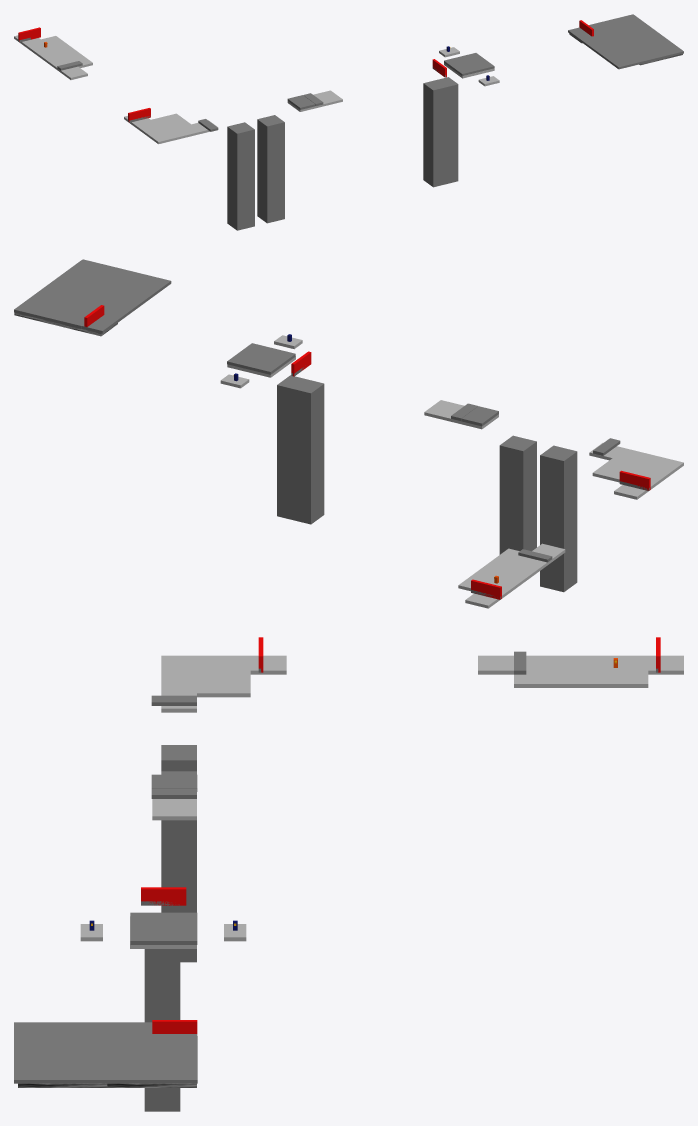
The model's file is B_Tuto.fbx.
3 renders of one model, top to bottom at view 1: azimuth 30°, elevation 25°; view 2: azimuth 150°, elevation 25°; view 3: azimuth 270°, elevation 25°, orthographic. The views are drawn at different scales.
Parts seen in each view (by area): view 1: Pilar1, Pilar1__1_, Pilar1__2_, Interaction, RoomTriggerMov_N1, pCube9, Interaction_1, pCube11, pCube10, pCube5; view 2: Pilar1, RoomTriggerMov_N1, Pilar1__2_, Pilar1__1_, Interaction, pCube9, Interaction_1, pCube10, pCube11, pCube5; view 3: Interaction, RoomTriggerMov_N1, pCube9, Pilar1, Pilar1__1_, Interaction_1, pCube11, pCube10, pCube5, Pilar1__2_, Door__2__1, pCube8__2_ (+1 smaller).
Part boxes in pixels (box(x1,y1,x2,y2)): Pilar1: box(423, 77, 458, 187); Pilar1__1_: box(257, 115, 284, 223); Pilar1__2_: box(227, 122, 254, 230); Interaction: box(590, 14, 682, 62); RoomTriggerMov_N1: box(568, 15, 683, 69); pCube9: box(133, 113, 201, 144); Interaction_1: box(444, 53, 494, 75); pCube11: box(24, 36, 73, 58); pCube10: box(42, 49, 92, 72); pCube5: box(287, 90, 342, 111); Pilar1: box(277, 375, 324, 524); RoomTriggerMov_N1: box(14, 259, 171, 333); Pilar1__2_: box(540, 445, 577, 592); Pilar1__1_: box(499, 435, 536, 554); Interaction: box(14, 260, 146, 328); pCube9: box(592, 448, 683, 489); Interaction_1: box(227, 343, 295, 374); pCube10: box(484, 548, 551, 579); pCube11: box(458, 567, 526, 598); pCube5: box(424, 400, 498, 429); Interaction: box(18, 1036, 197, 1083); RoomTriggerMov_N1: box(14, 1022, 197, 1083); pCube9: box(161, 655, 250, 697); Pilar1: box(144, 949, 180, 1111); Pilar1__1_: box(161, 771, 196, 962); Interaction_1: box(130, 912, 197, 944); pCube11: box(581, 655, 648, 687); pCube10: box(514, 655, 580, 687); pCube5: box(152, 799, 196, 820); Pilar1__2_: box(161, 745, 196, 771); Door__2__1: box(141, 887, 186, 905); pCube8__2_: box(478, 655, 513, 674).
Bounding box in the file's own units: 22745 × 5212 × 14968.
7 materials, 1 textured.
